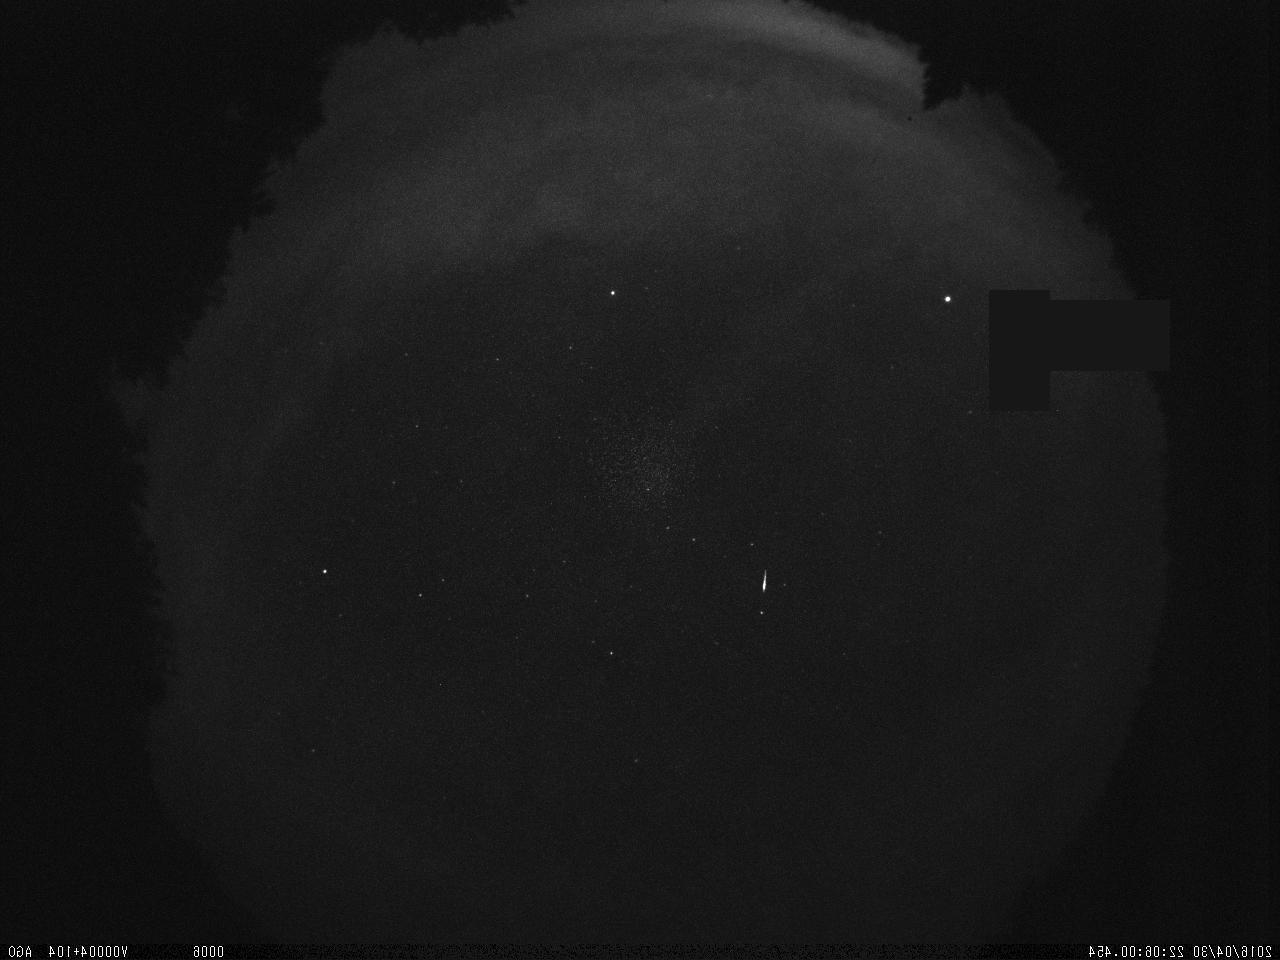meteor: (742, 561, 773, 603)
